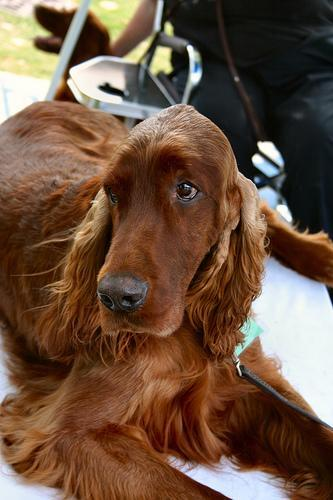Irish_setter: (1, 100, 331, 498)
